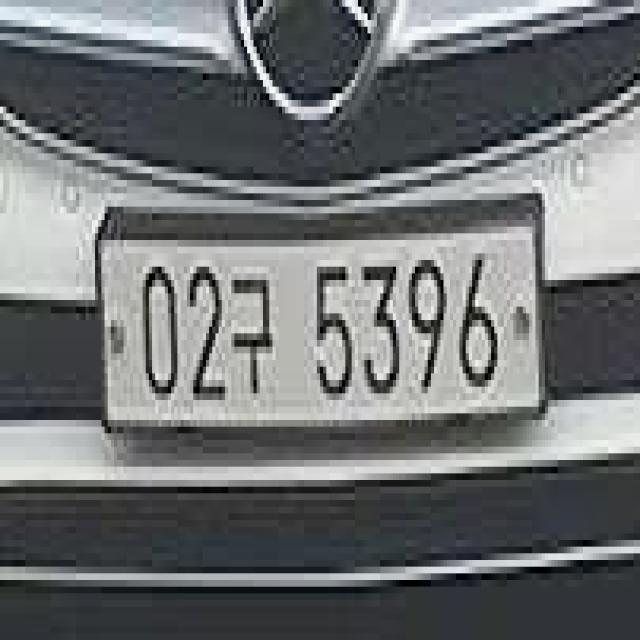illegal_plate: (98, 207, 548, 447)
